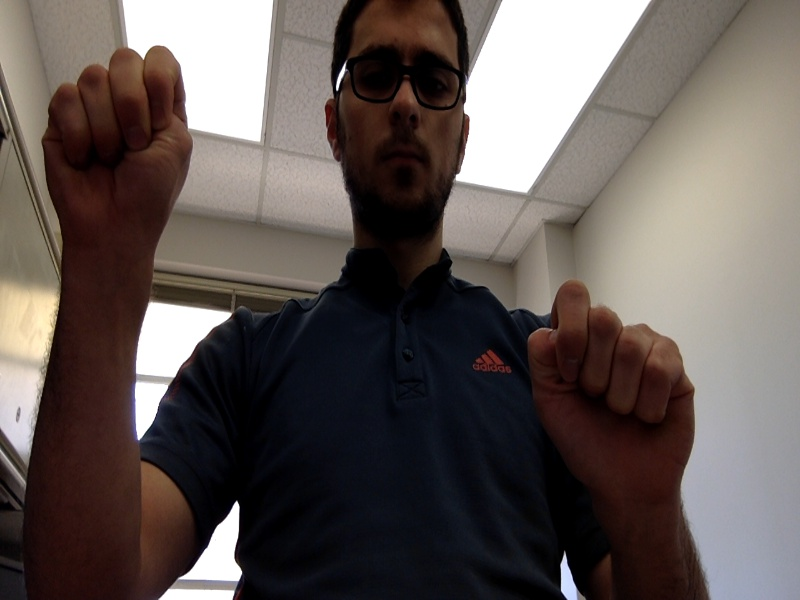0-hand: (527, 281, 695, 508), (42, 45, 192, 253)
